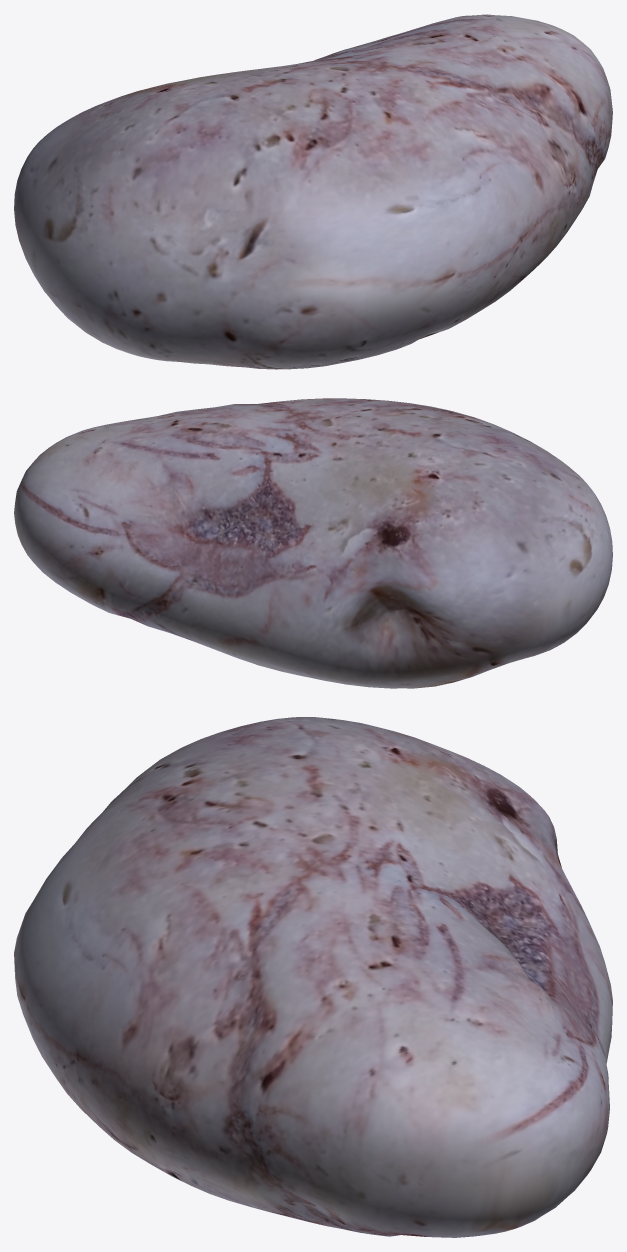
Rendered from BeachRock4.fbx.
3 views of the same model, one above another, from view 1: azimuth 30°, elevation 25°; view 2: azimuth 150°, elevation 25°; view 3: azimuth 270°, elevation 25° (orthographic). The views are drawn at different scales.
Visible parts, largest first — view 1: BeachRock4_LOD0; view 2: BeachRock4_LOD0; view 3: BeachRock4_LOD0.
Boxes of the visible parts, x1,y1,x2,y2 form: BeachRock4_LOD0: (14, 14, 612, 369); BeachRock4_LOD0: (14, 398, 612, 688); BeachRock4_LOD0: (14, 717, 612, 1237).
Size of what is drawn, in the model's own units: 18.23 by 7.34 by 12.17.
